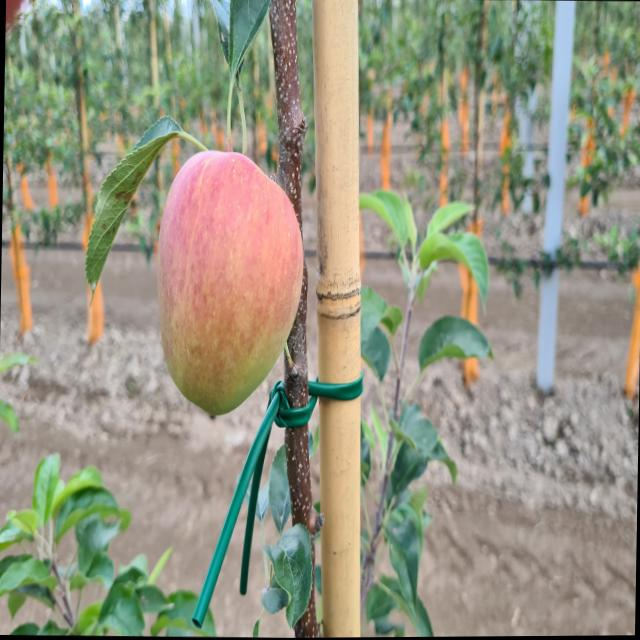Apple: (157, 151, 302, 415)
